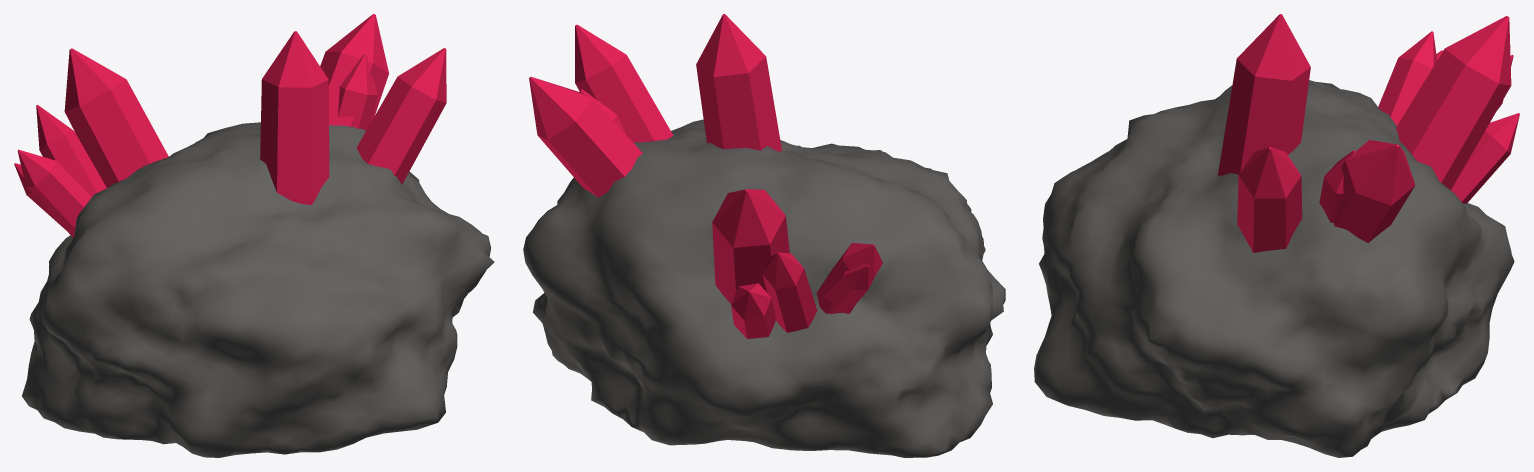
The model's file is ruby_deep.glb.
3 renders of one model, left to right at view 1: azimuth 30°, elevation 25°; view 2: azimuth 150°, elevation 25°; view 3: azimuth 270°, elevation 25°, orthographic. The views are drawn at different scales.
Parts seen in each view (by area): view 1: ruby_deep; view 2: ruby_deep; view 3: ruby_deep.
Boxes of the visible parts, <box> form: ruby_deep: <box>14,14,494,457</box>; ruby_deep: <box>523,14,1005,457</box>; ruby_deep: <box>1034,14,1519,457</box>.
Bounding box in the file's own units: 2.09 × 1.62 × 1.9.
